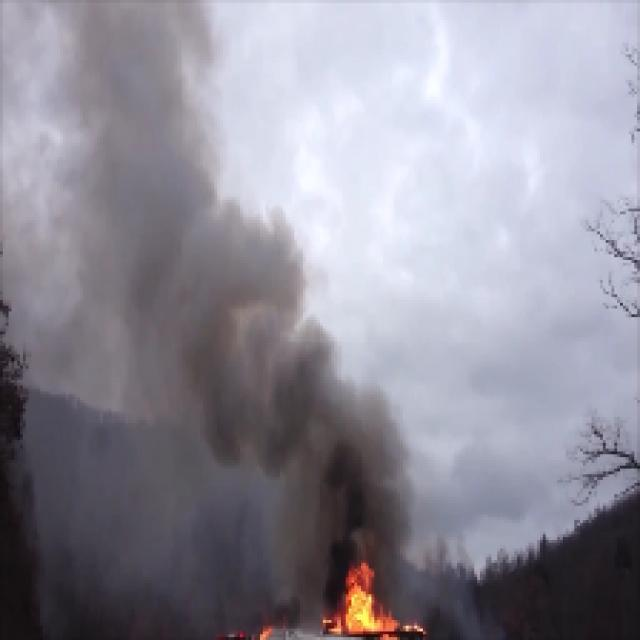Fire: (330, 558, 392, 626)
Smoke: (60, 4, 213, 354), (216, 204, 302, 473), (307, 332, 400, 538)
